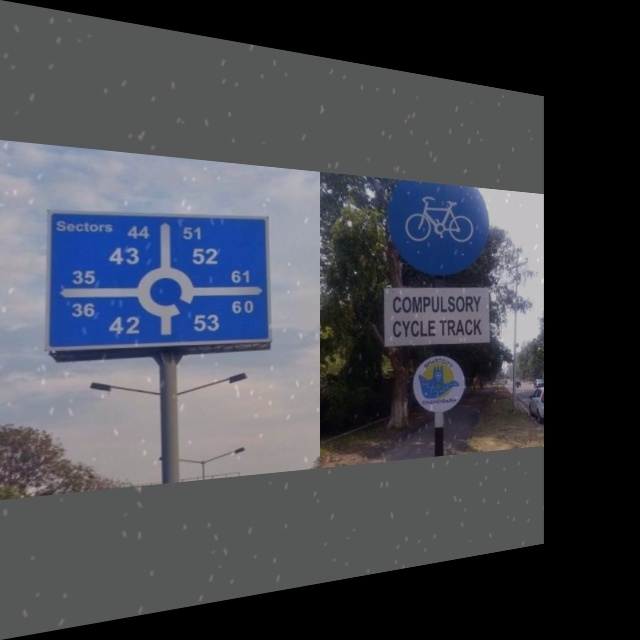Compulsory_Cycle_Track: (391, 178, 482, 276)
